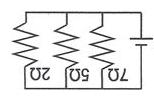Battery: (122, 31, 152, 51)
